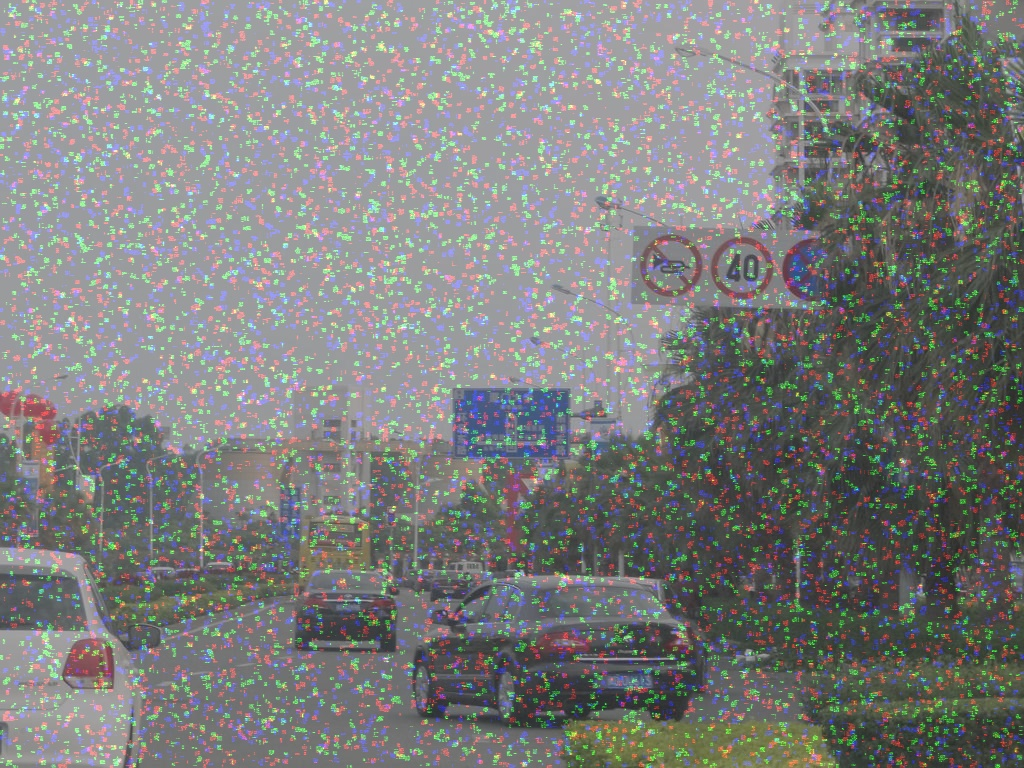Prohibitory Signs: (781, 235, 848, 304), (638, 232, 705, 300), (708, 235, 776, 302)
